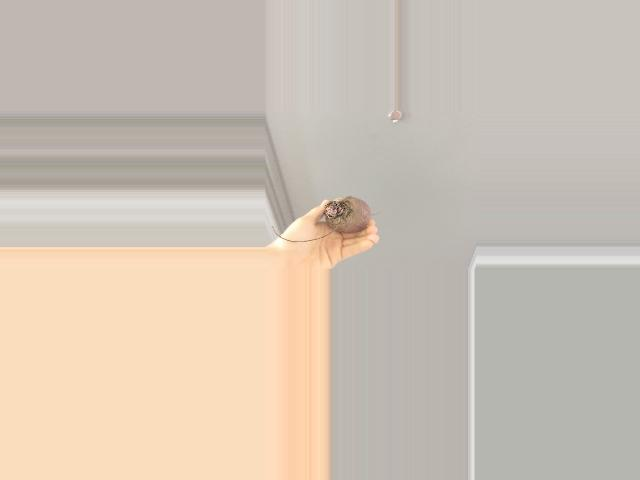beet: (273, 197, 383, 243)
